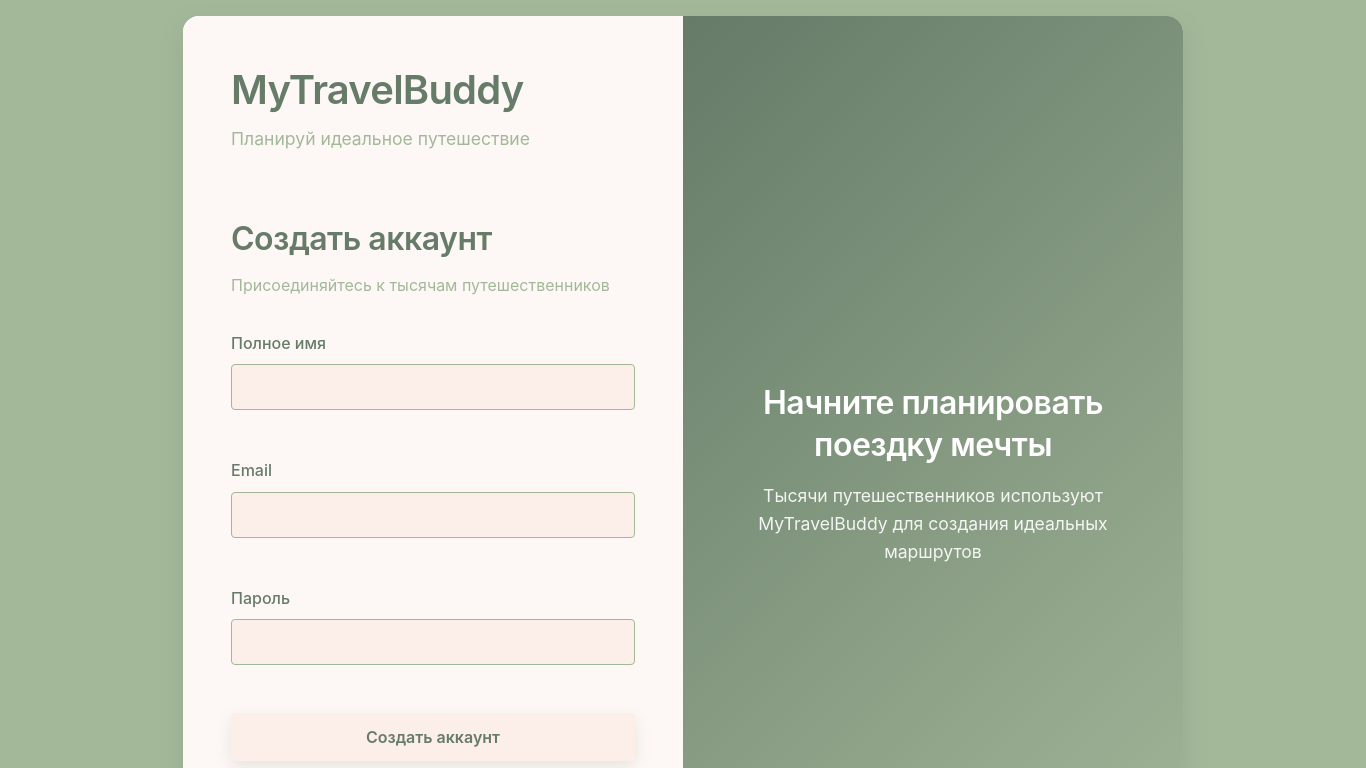
Test: RegisterPage › disables button while submitting
The image size is (1366, 768).
In the field labelled "Полное имя": (433, 387) [231,364,635,410], type "Иван"
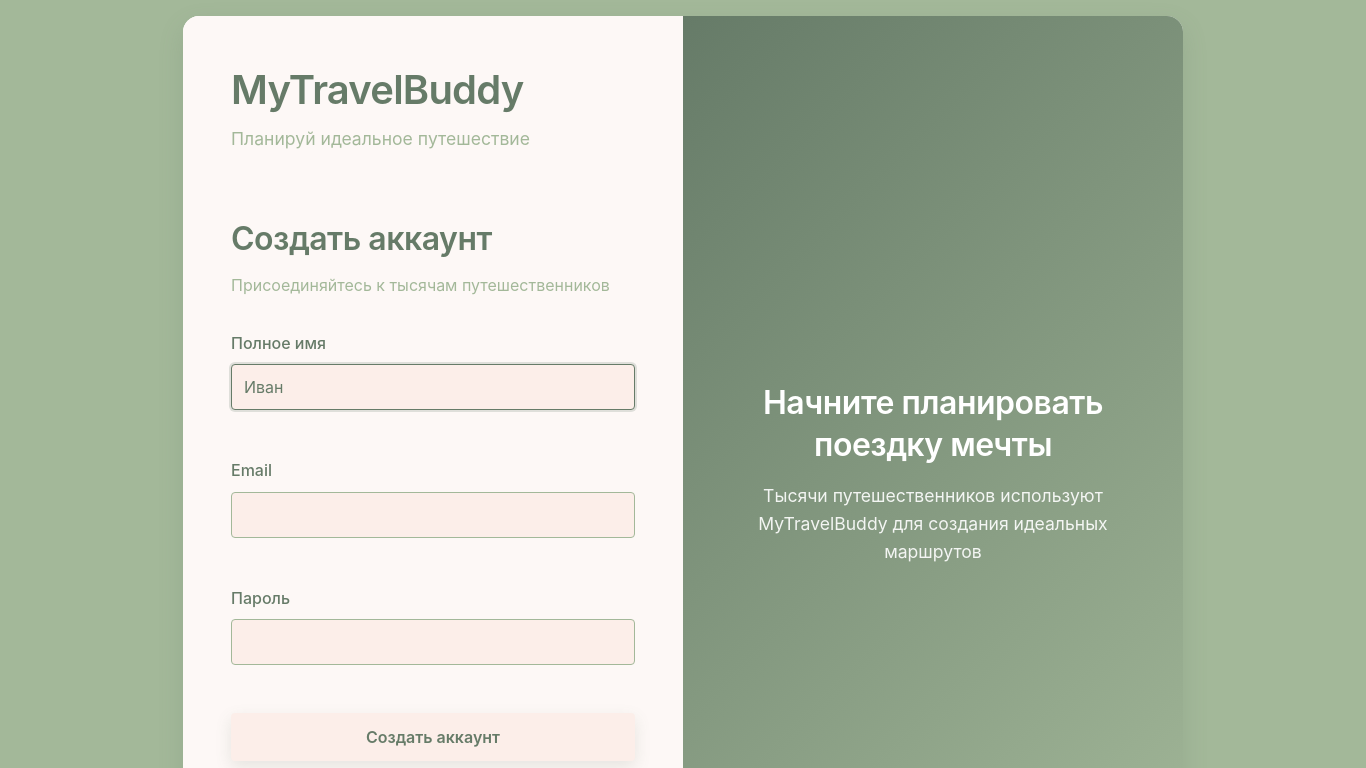
In the field labelled "Email": (433, 515) [231,492,635,538], type "ivan@test.com"
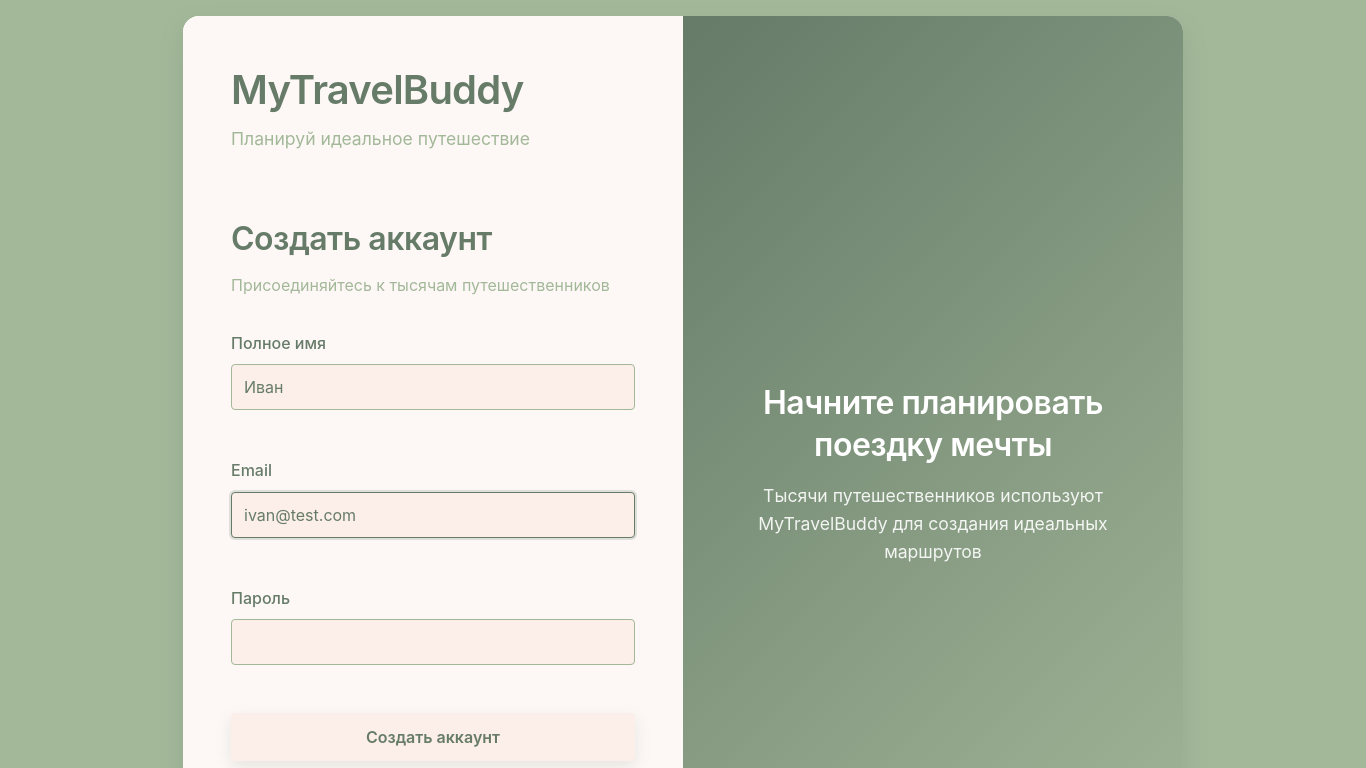
In the password field labelled "Пароль": (433, 642) [231,620,635,666], type "password"
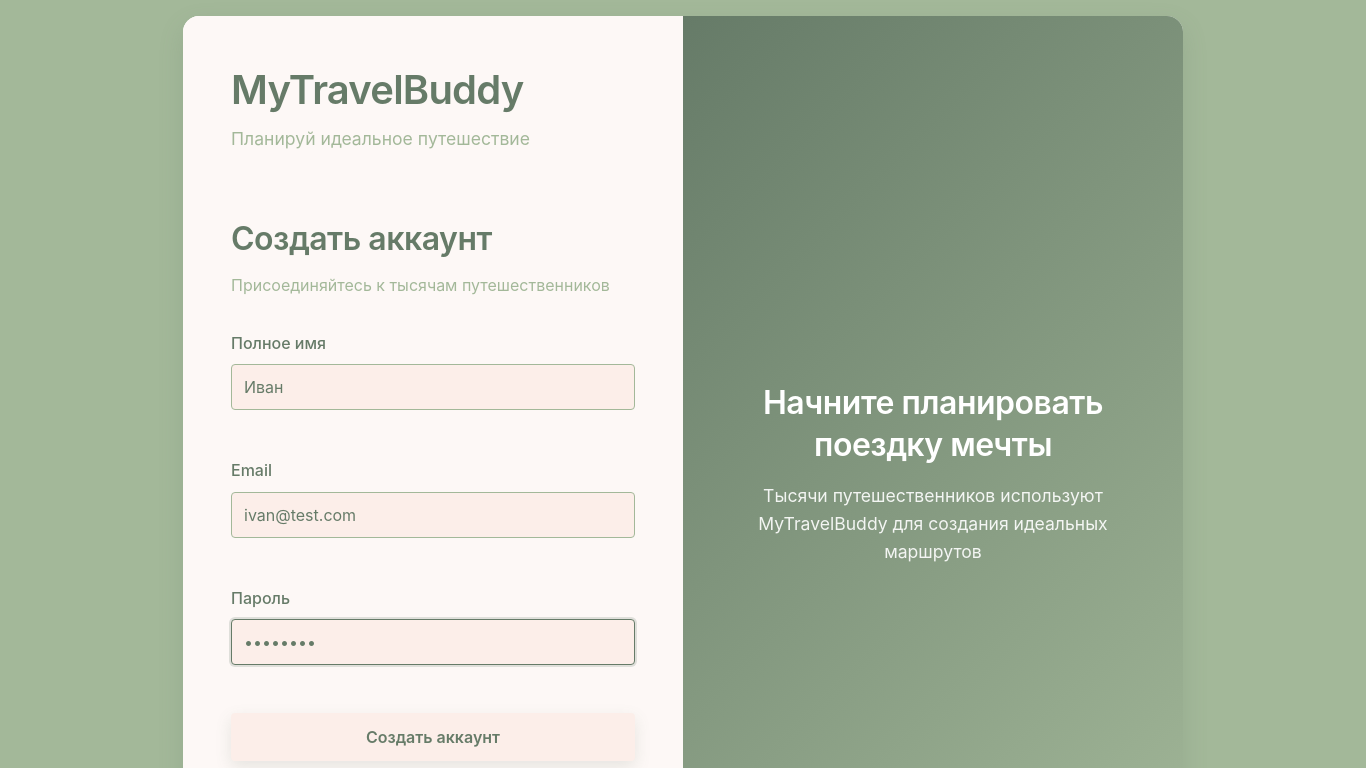
Click the button "Создать аккаунт": (433, 738) [231,714,635,762]
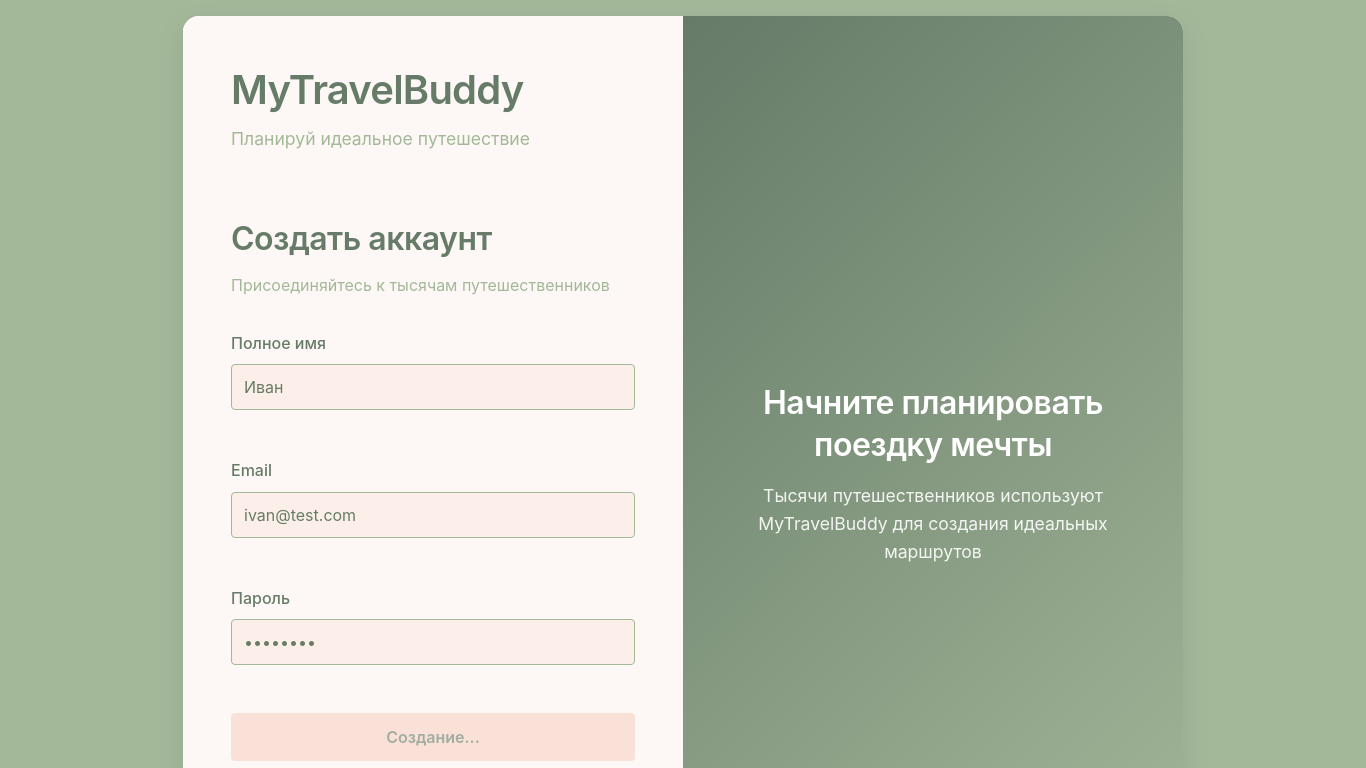
expect the button "Создание..." is disabled: met, box [231,714,635,762]
